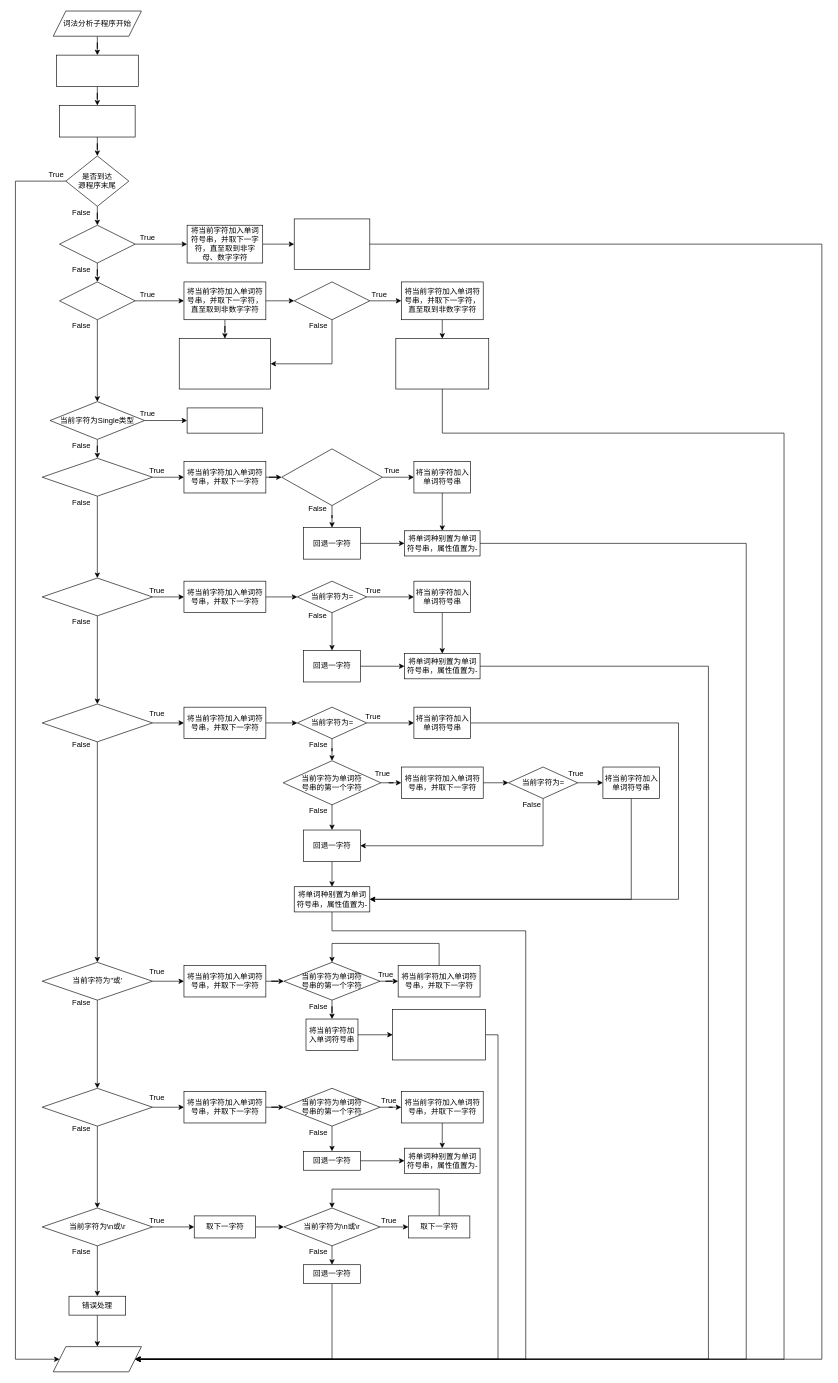
The diagram is 838 pixels wide and 1383 high, and some of its shapes have lost their labels. Here are the shapes that lost their labels. From the top down, the centre of each, then its label:
(x=97, y=70): 置当前取到的词为空；若本次分析不出错，则置错误标志位为false
(x=97, y=121): 取下一字符直至取到非空白符
(x=97, y=244): 当前字符为字母
(x=332, y=243): 回退一字符，将单词符号串插入单词符号表，将单词种别置为ID，属性值置为其在单词符号表中的序号
(x=97, y=300): 当前字符为数字
(x=332, y=300): 当前字符为.
(x=225, y=363): 回退一字符，将单词符号串插入整形常量表，将单词种别置为Constant(Int)，属性值置为其在整形常量表中的序号
(x=442, y=363): 回退一字符，将单词符号串插入实形常量表，将单词种别置为Constant(Float)，属性值置为其在实型常量表中的序号
(x=224, y=420): 将单词种别置为当前字符，属性值置为-
(x=97, y=477): 当前字符为doublenE类型
(x=331, y=477): 当前字符为=或单词 符号串的第一个字符
(x=97, y=596): 当前字符为Equal类型
(x=97, y=722): 当前字符为>或<
(x=439, y=1034): 将单词符号串插入实形常量表，将单词种别置为Constant(String/Char)，属性值置为其在实型常量表中的序号
(x=97, y=1107): 当前字符为:
(x=97, y=1359): 词法分析子程序结束
